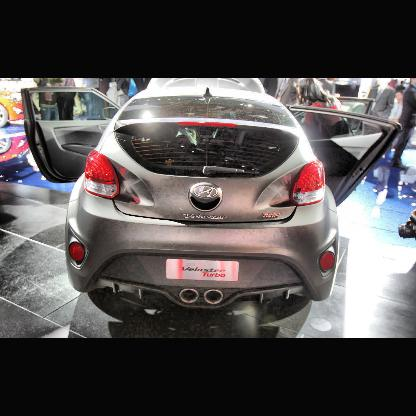Hyundai Veloster Hatchback 2012: (22, 78, 403, 314)
